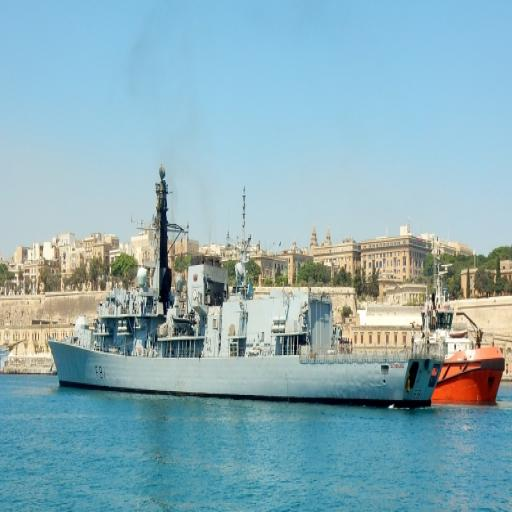Fragata: (49, 157, 443, 399)
